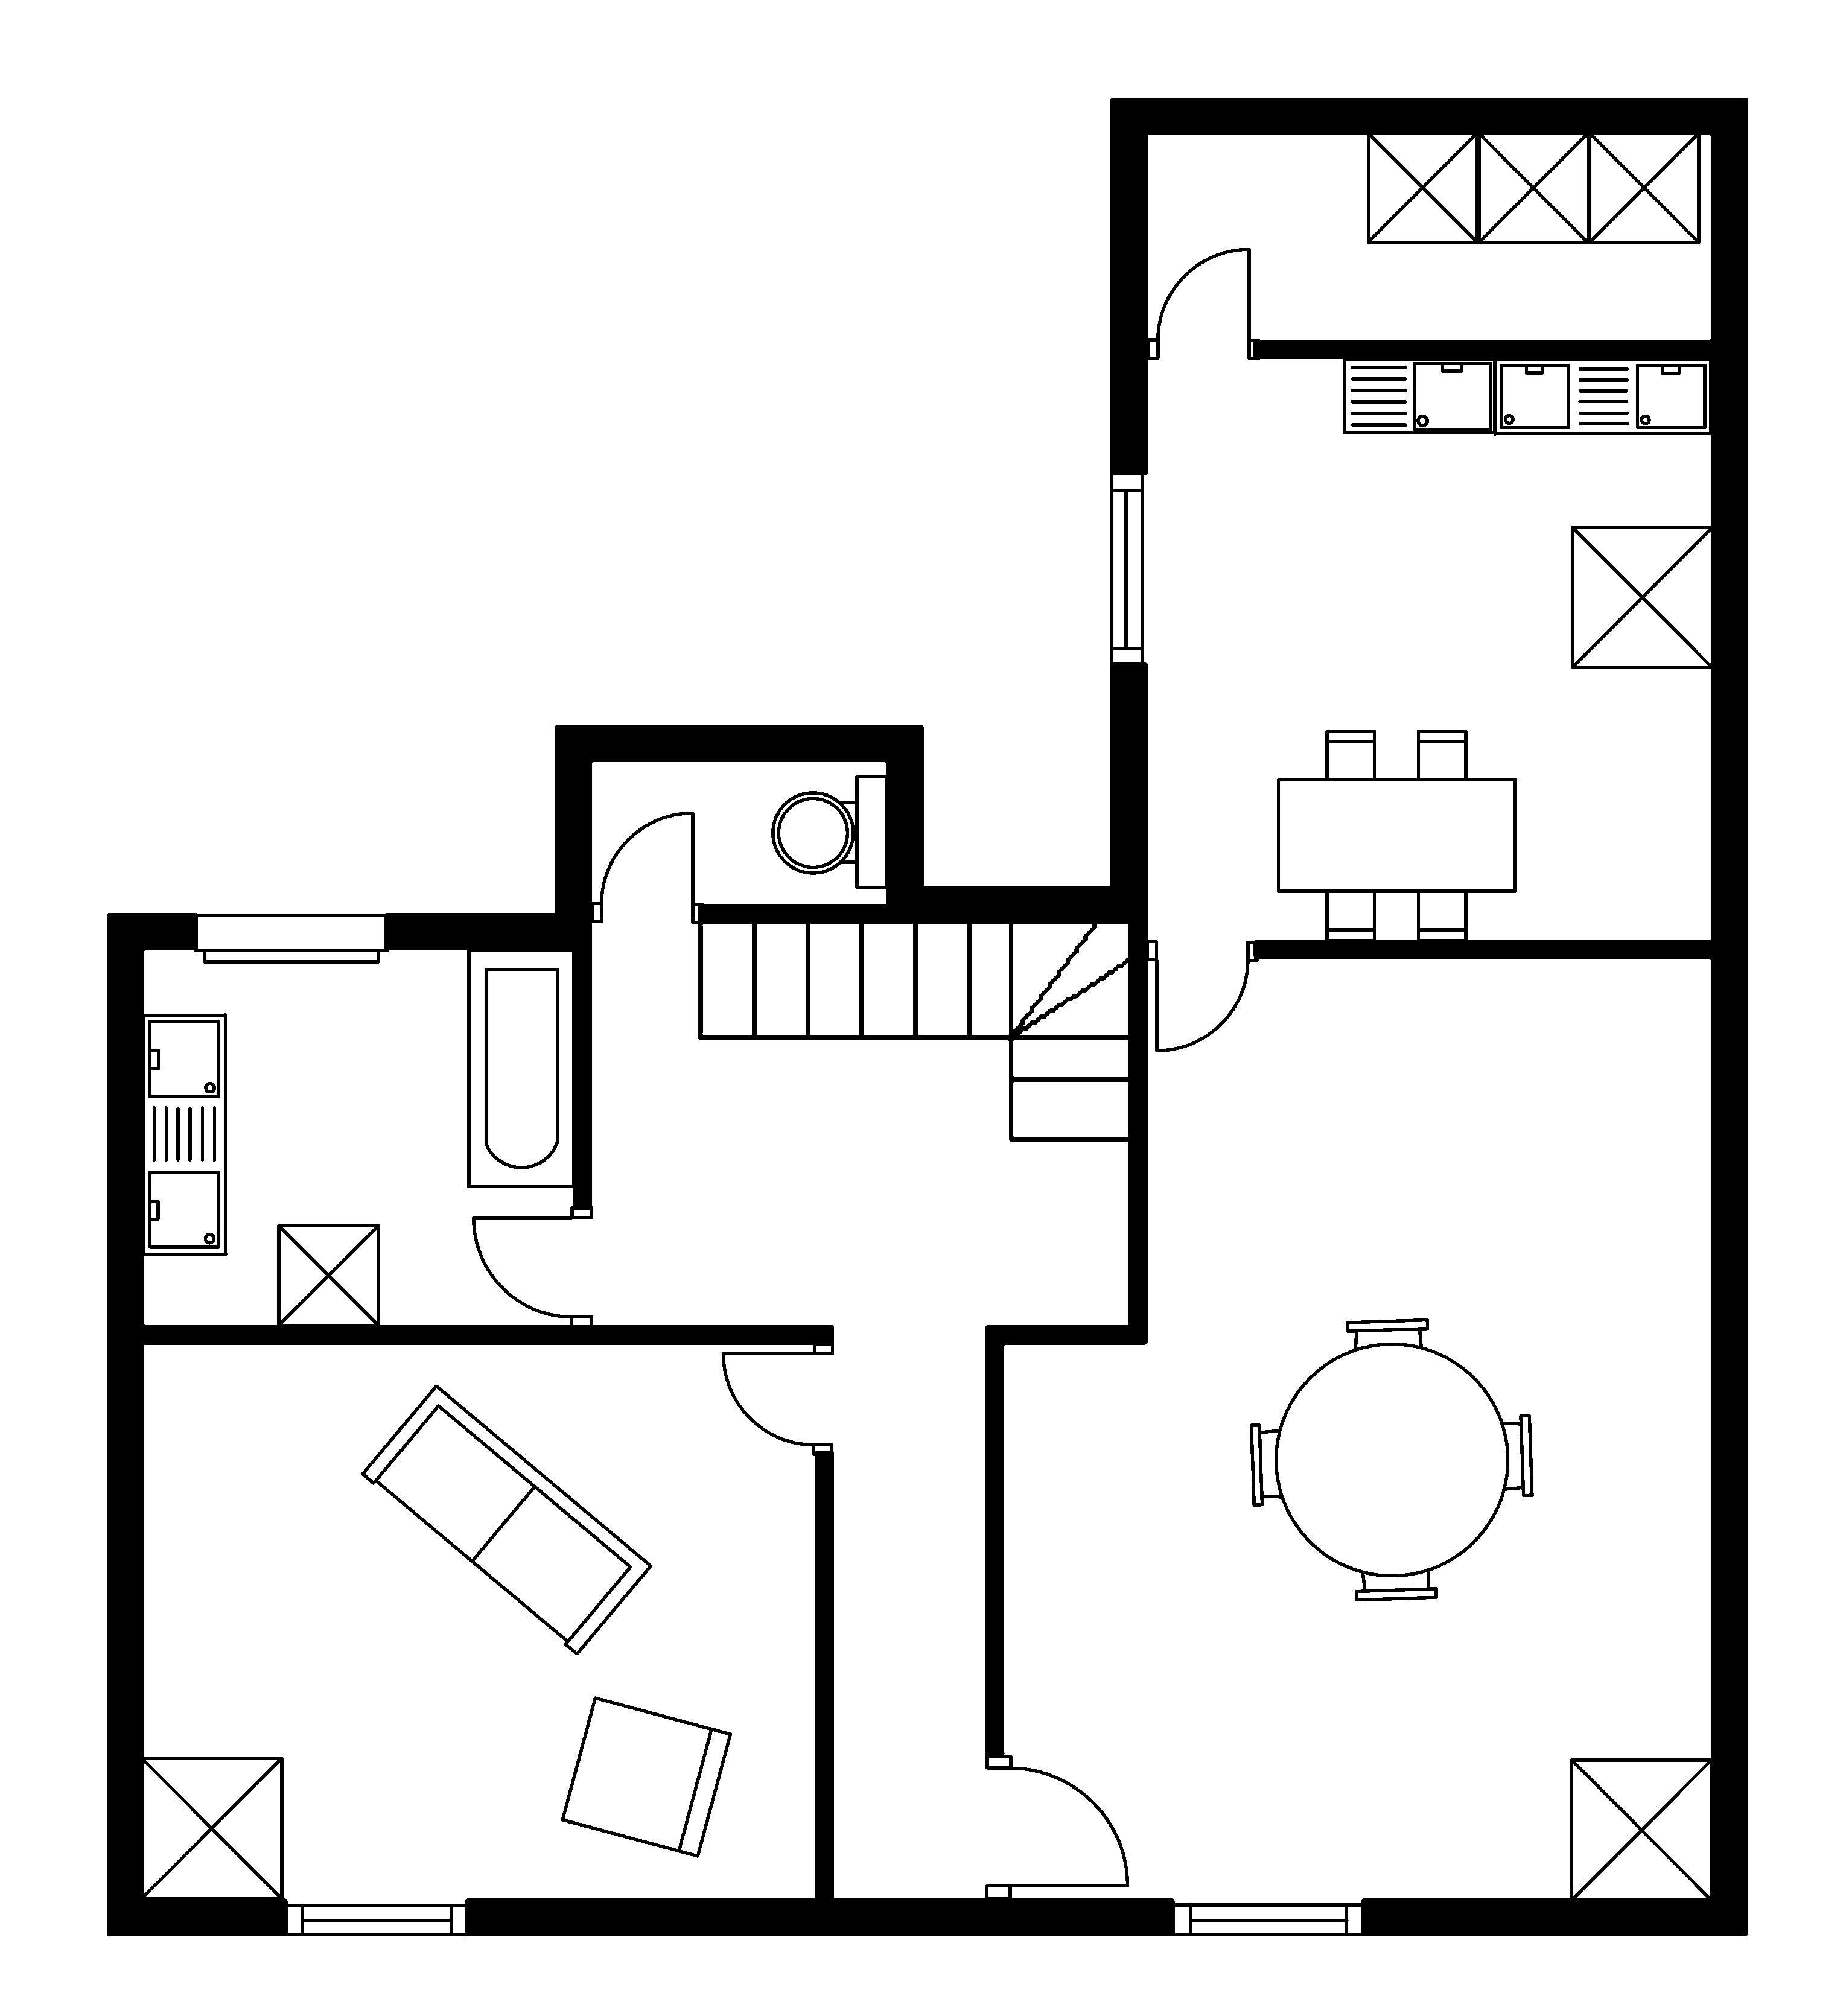coffee_table: (1568, 523, 1714, 669), (1568, 1756, 1714, 1902), (139, 1754, 285, 1900), (1586, 130, 1702, 246), (1475, 130, 1590, 246), (1365, 130, 1479, 246), (276, 1222, 381, 1328)
dining_table: (1275, 727, 1518, 943)
large_sink: (771, 773, 889, 889)
large_sofa: (358, 1384, 653, 1656)
round_table: (1249, 1317, 1535, 1603)
sink: (1340, 356, 1496, 436)
small_sofa: (559, 1695, 732, 1858)
tub: (465, 947, 576, 1189)
twin_sink: (141, 1012, 228, 1257), (1491, 356, 1713, 436)
